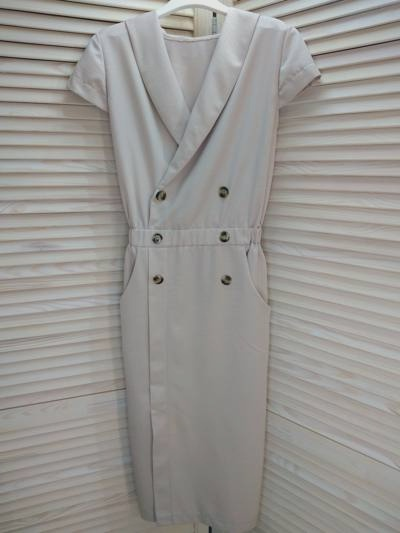Dress: (65, 12, 326, 527)
